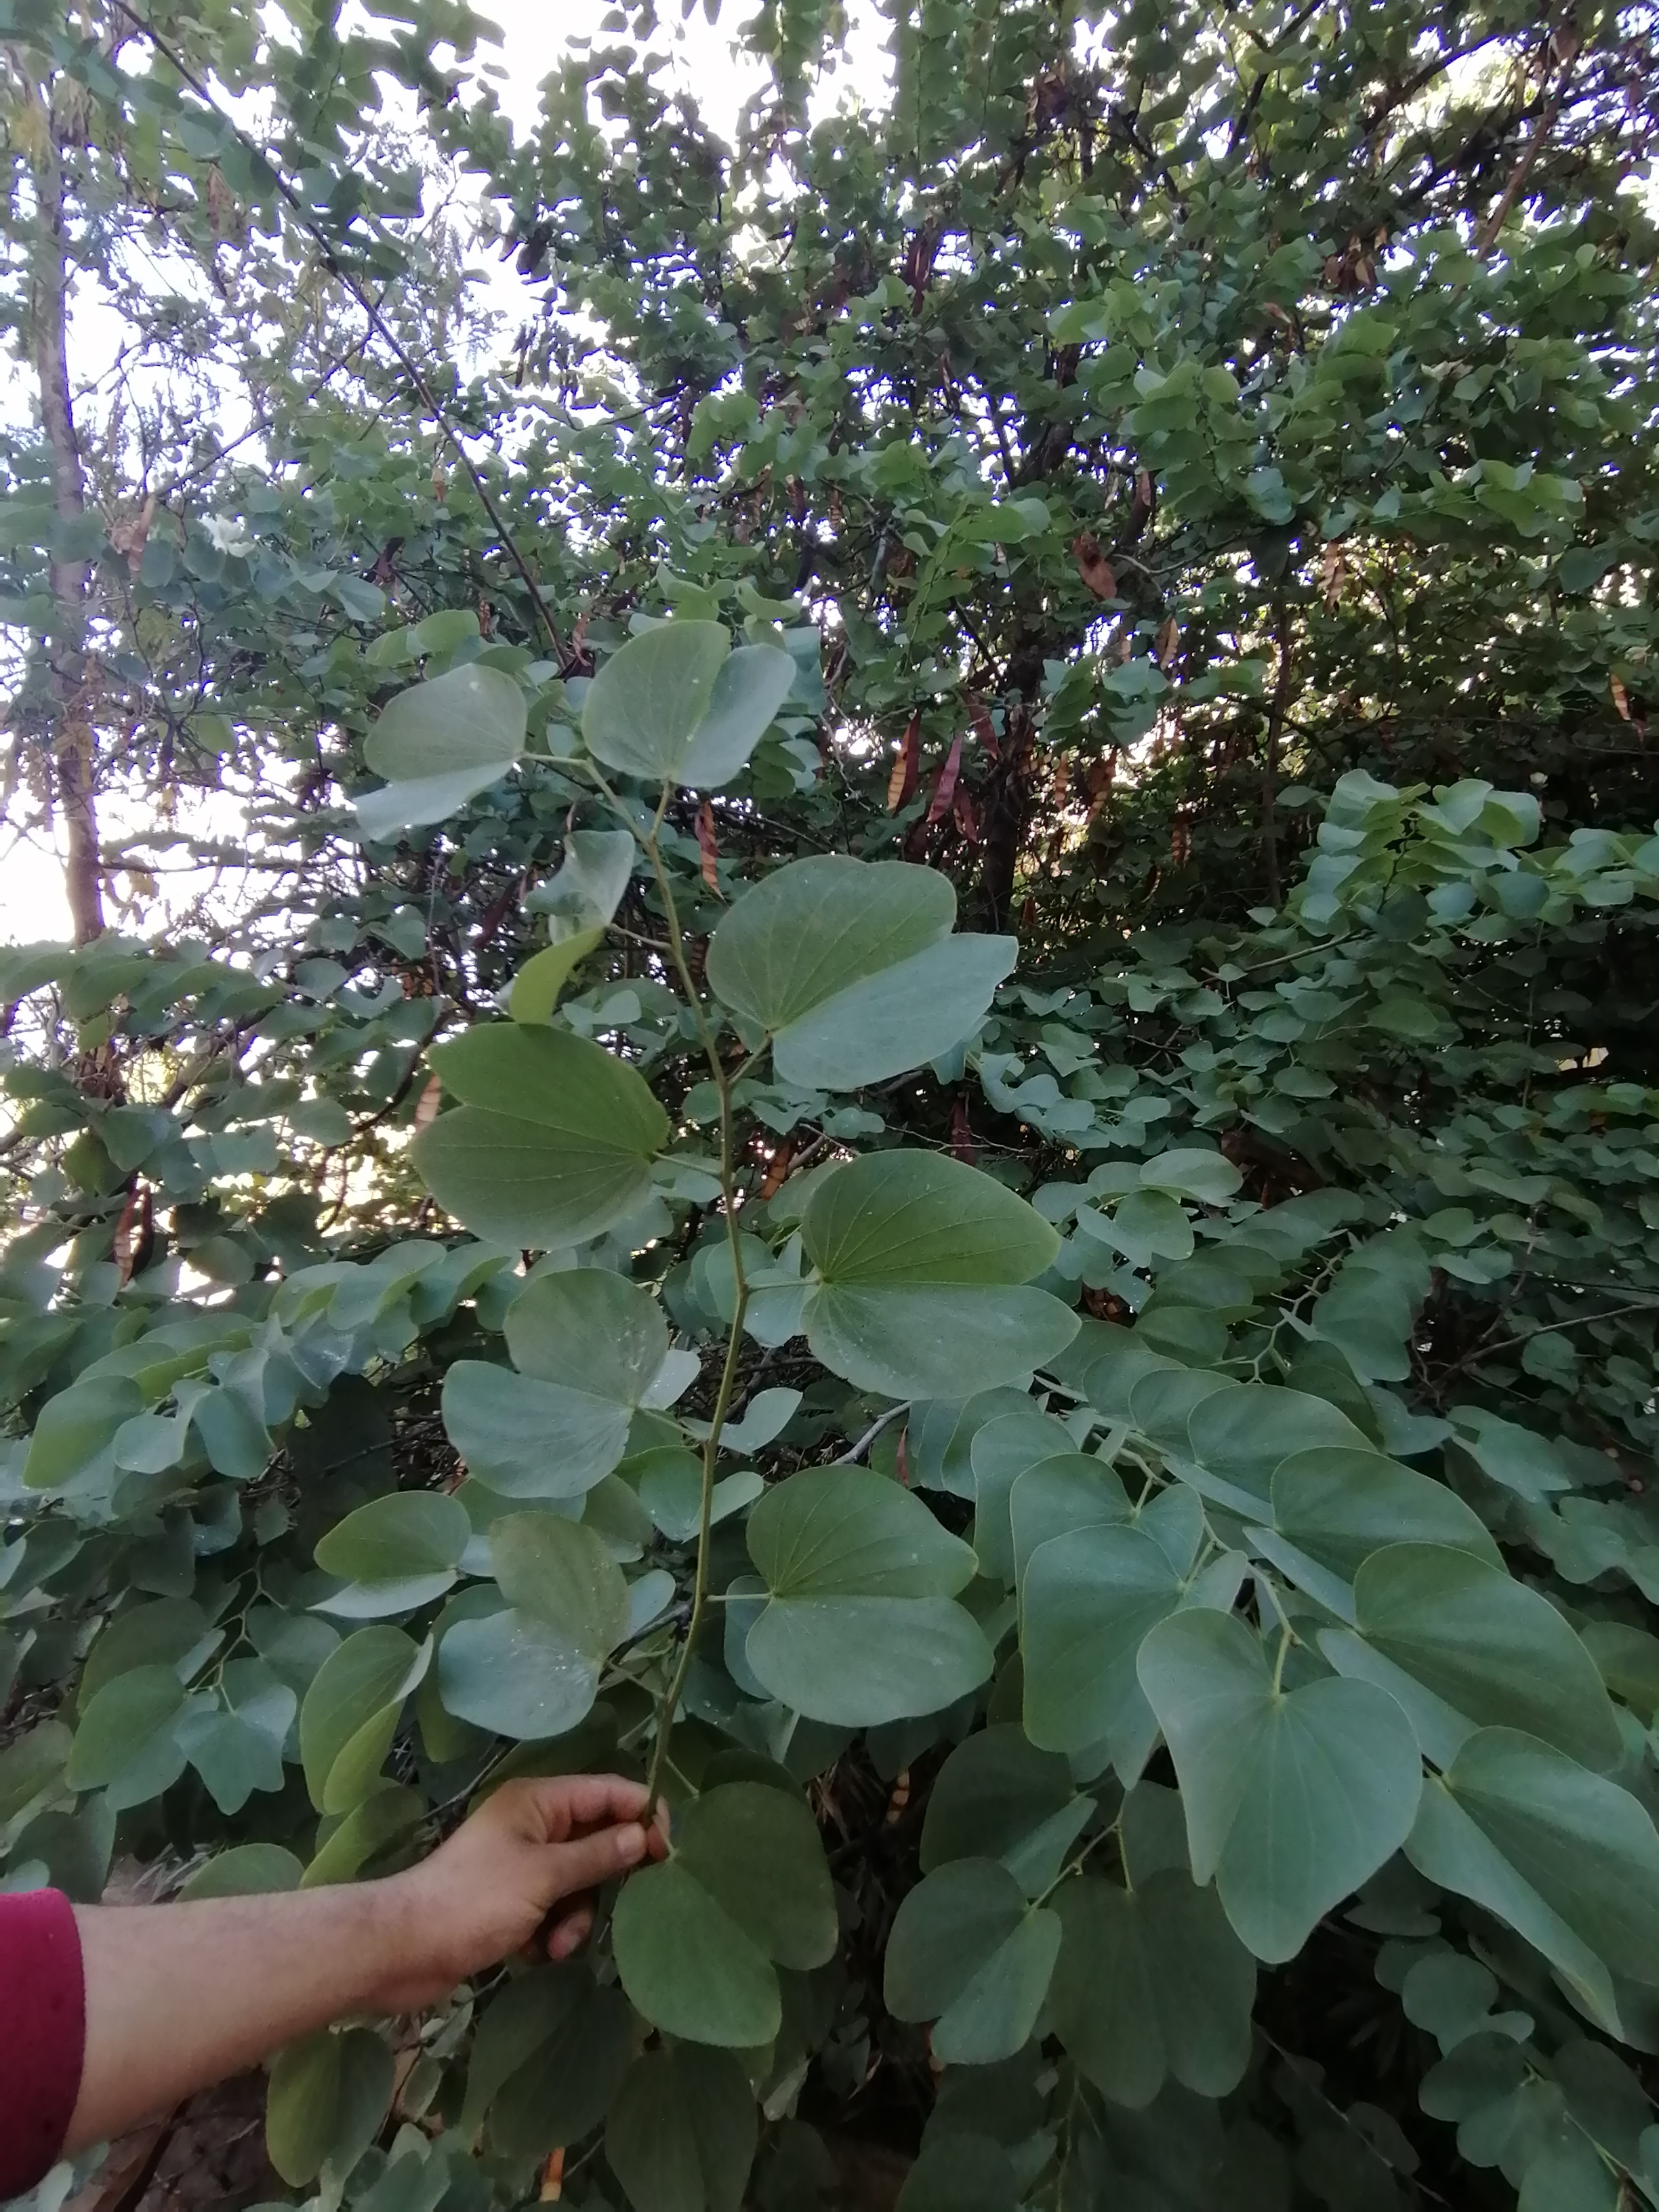healthy: (1326, 1683, 1659, 2078), (1141, 1615, 1431, 1933), (812, 1146, 1089, 1385), (728, 843, 985, 1094), (744, 1487, 979, 1735), (647, 1723, 814, 2055), (1000, 1536, 1256, 1749), (448, 1264, 674, 1498), (432, 1503, 652, 1743), (401, 1071, 699, 1245), (342, 662, 545, 848), (561, 629, 793, 792), (887, 1892, 1089, 2059), (288, 1454, 469, 1627), (58, 1667, 232, 1831), (195, 1653, 305, 1834)
